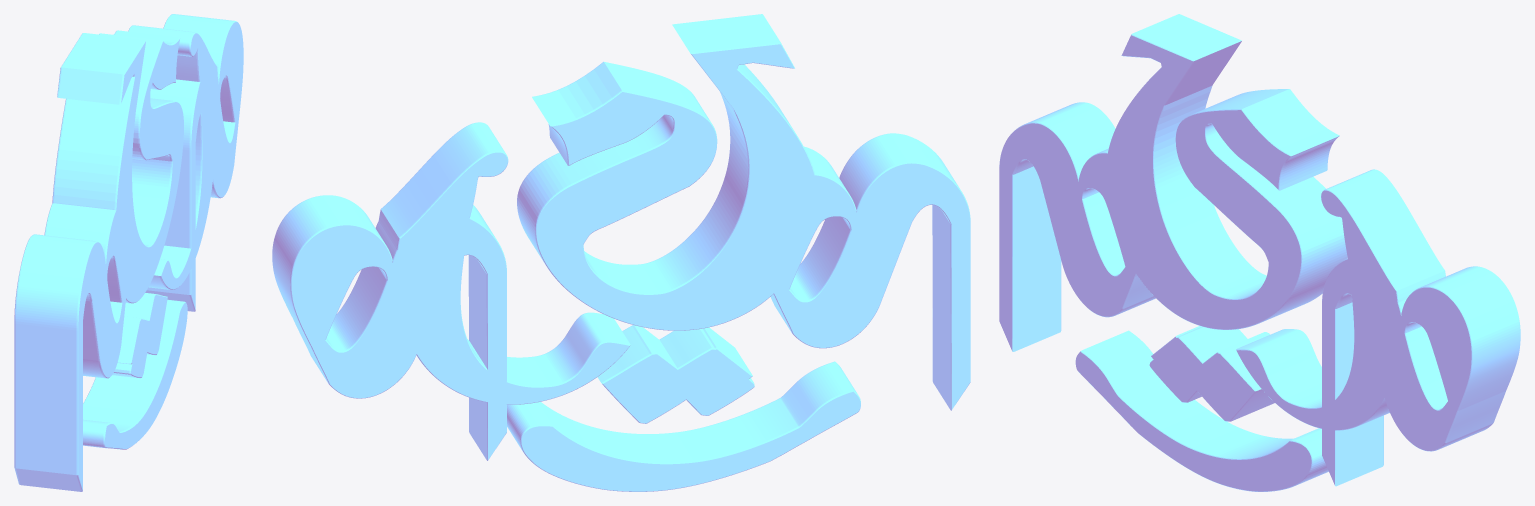
The model's file is 3d-full.gltf.
The picture shows the model from 3 angles, left to right: view 1: azimuth 30°, elevation 25°; view 2: azimuth 150°, elevation 25°; view 3: azimuth 270°, elevation 25°; orthographic projection. The views are drawn at different scales.
Visible parts, largest first — view 1: 097651bb-1c24-4c69-9f86-5982b2ace7b2; view 2: 097651bb-1c24-4c69-9f86-5982b2ace7b2; view 3: 097651bb-1c24-4c69-9f86-5982b2ace7b2.
Boxes of the visible parts, x1,y1,x2,y2 form: 097651bb-1c24-4c69-9f86-5982b2ace7b2: (14,14,243,491); 097651bb-1c24-4c69-9f86-5982b2ace7b2: (272,14,970,491); 097651bb-1c24-4c69-9f86-5982b2ace7b2: (999,14,1520,491).
Size of the model in its own units: 44.56 by 38.96 by 44.56.
